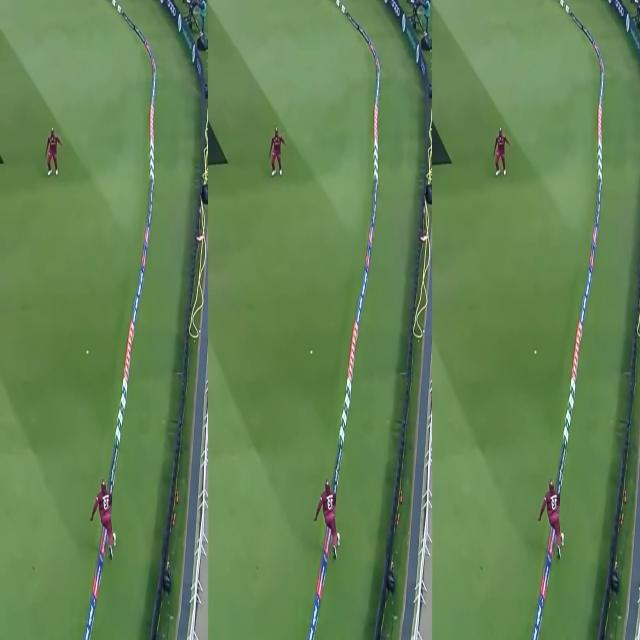ball: (82, 346, 93, 359), (532, 346, 540, 362), (308, 348, 316, 359)
